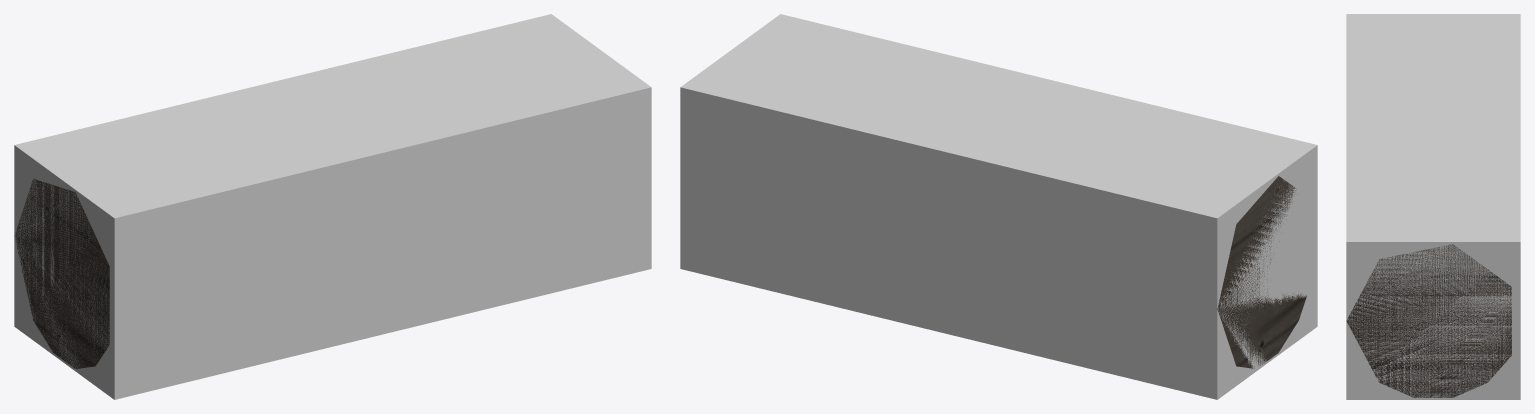
Rendered from prop_seat_log_tex.glb.
3 views of the same model, side by side, from view 1: azimuth 30°, elevation 25°; view 2: azimuth 150°, elevation 25°; view 3: azimuth 270°, elevation 25° (orthographic). The views are drawn at different scales.
Visible parts, largest first — view 1: col_seat_log, log_seat; view 2: col_seat_log, log_seat; view 3: col_seat_log, log_seat.
Part boxes in pixels (x1,y1,x2,y2): col_seat_log: (14, 14, 651, 399); log_seat: (14, 179, 109, 368); col_seat_log: (680, 14, 1317, 399); log_seat: (1217, 176, 1306, 368); col_seat_log: (1346, 14, 1520, 399); log_seat: (1346, 244, 1511, 397).
Bounding box in the file's own units: 1.3 × 0.42 × 0.42.
1 material, 1 textured.
